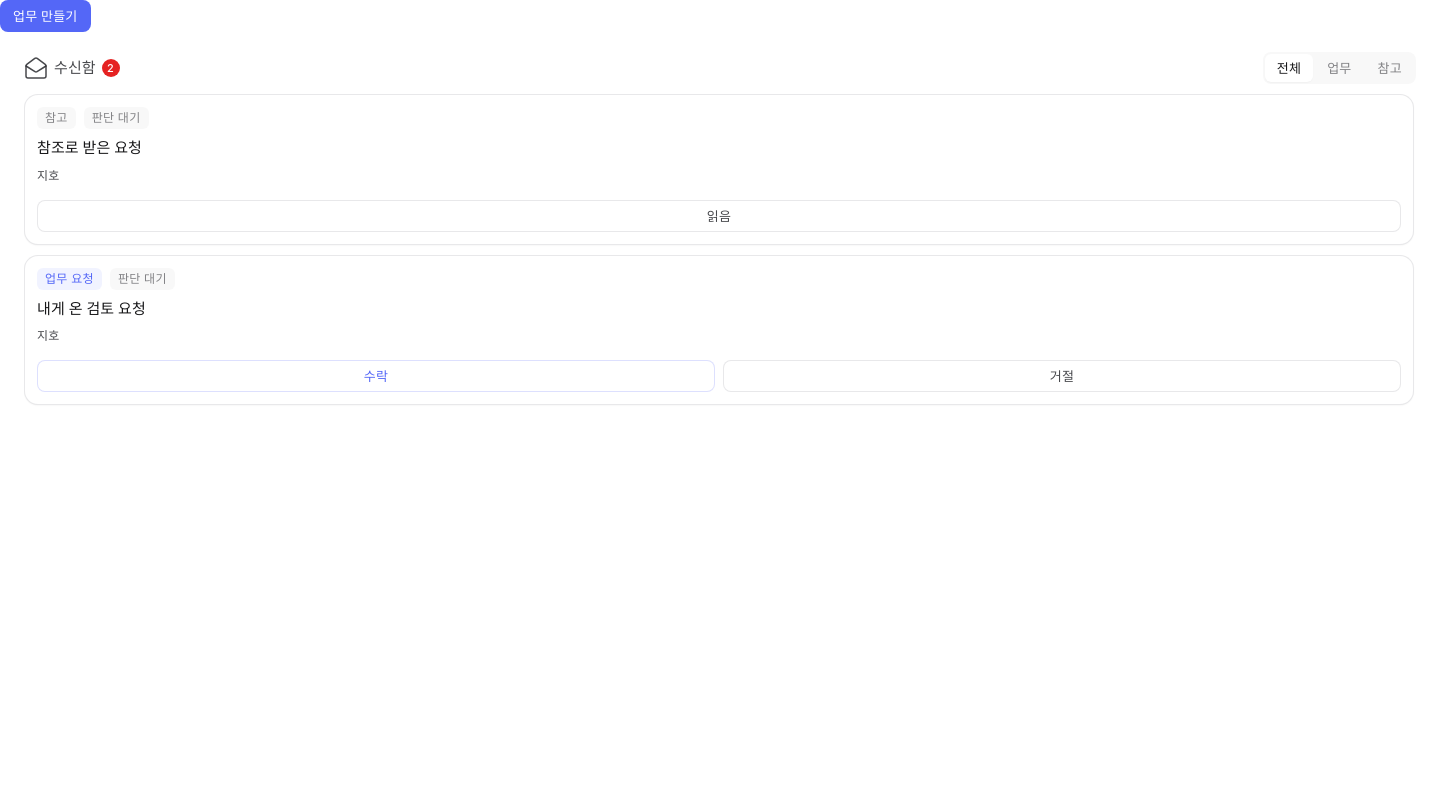
Test: work relation information architecture › direct inbox rejection keeps the reason on failure and retries the existing command
Click the button "거절": [1062, 376] box left=723, top=360, right=1401, bottom=392
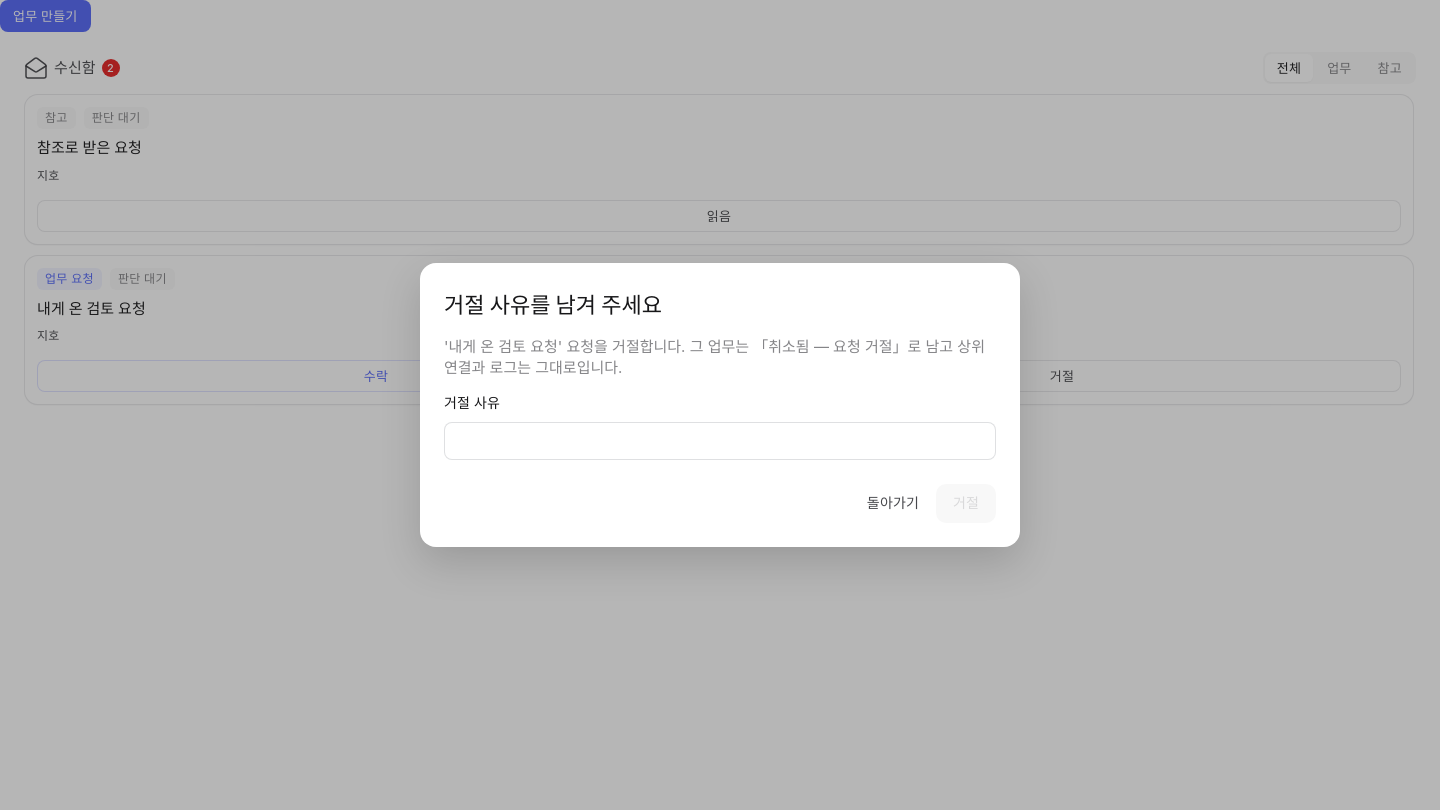
In the field labelled "거절 사유": [720, 441] box left=444, top=422, right=996, bottom=460, type "일정 조율 필요"
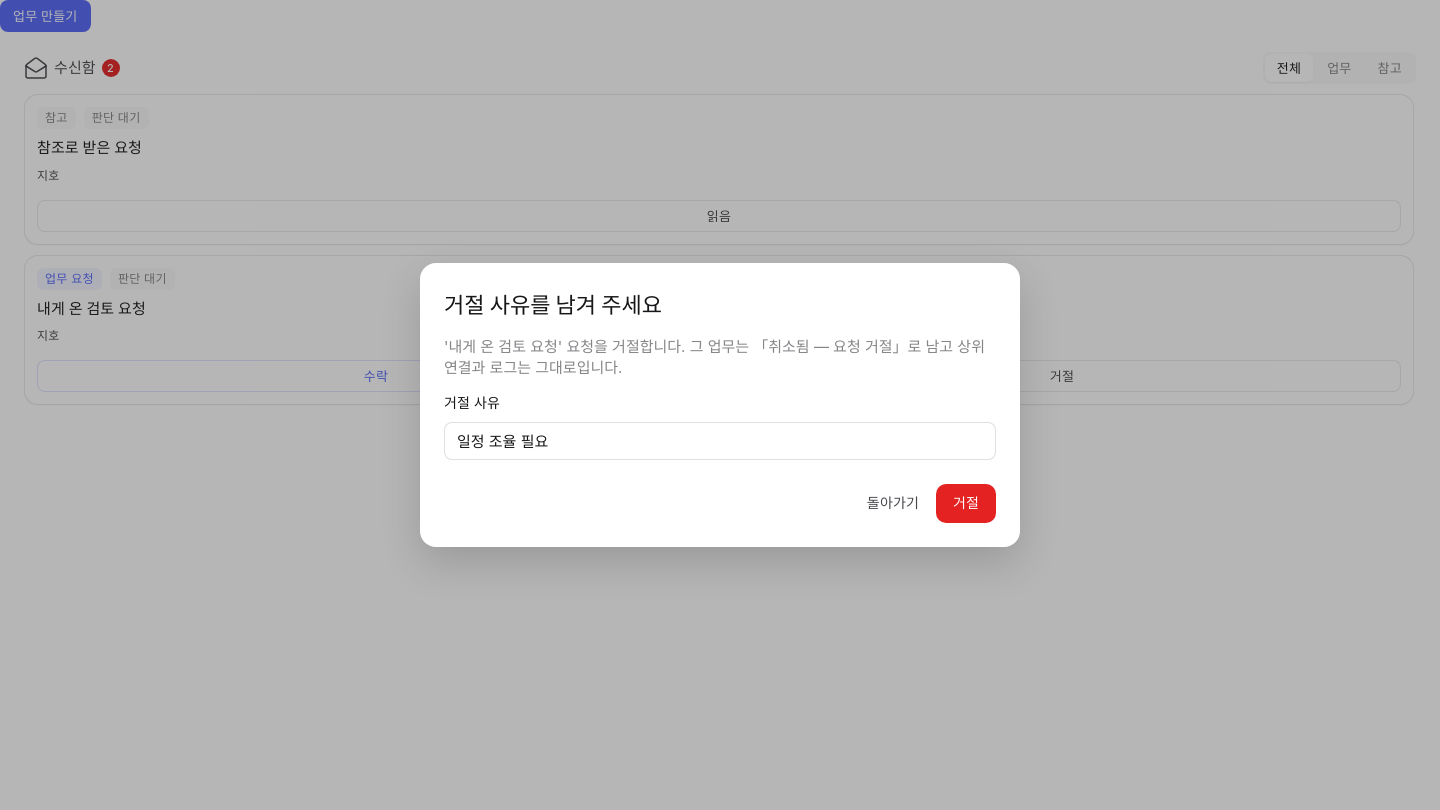
Click the button "거절": [966, 503] box left=936, top=484, right=996, bottom=523
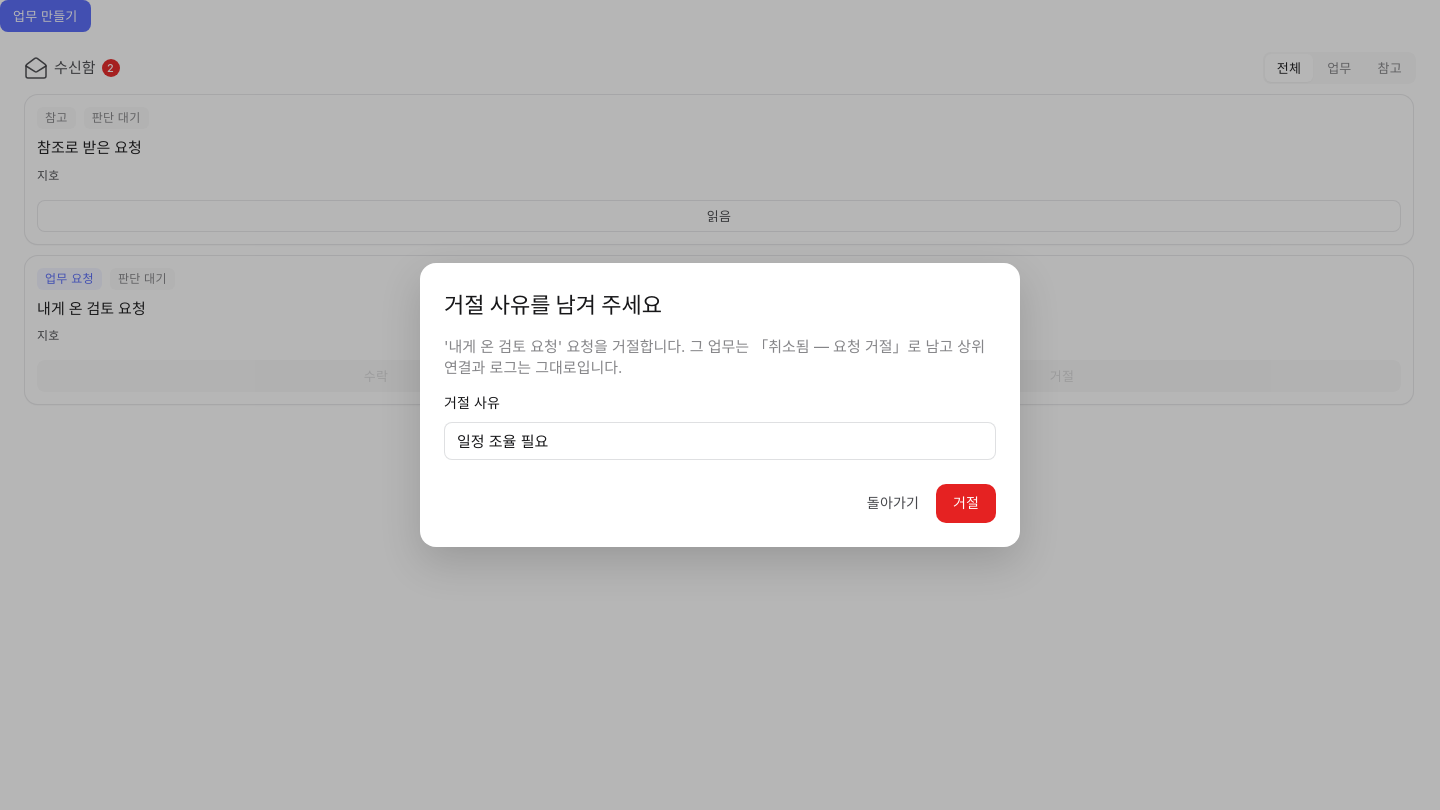
Click the button "거절": [966, 503] box left=936, top=484, right=996, bottom=523
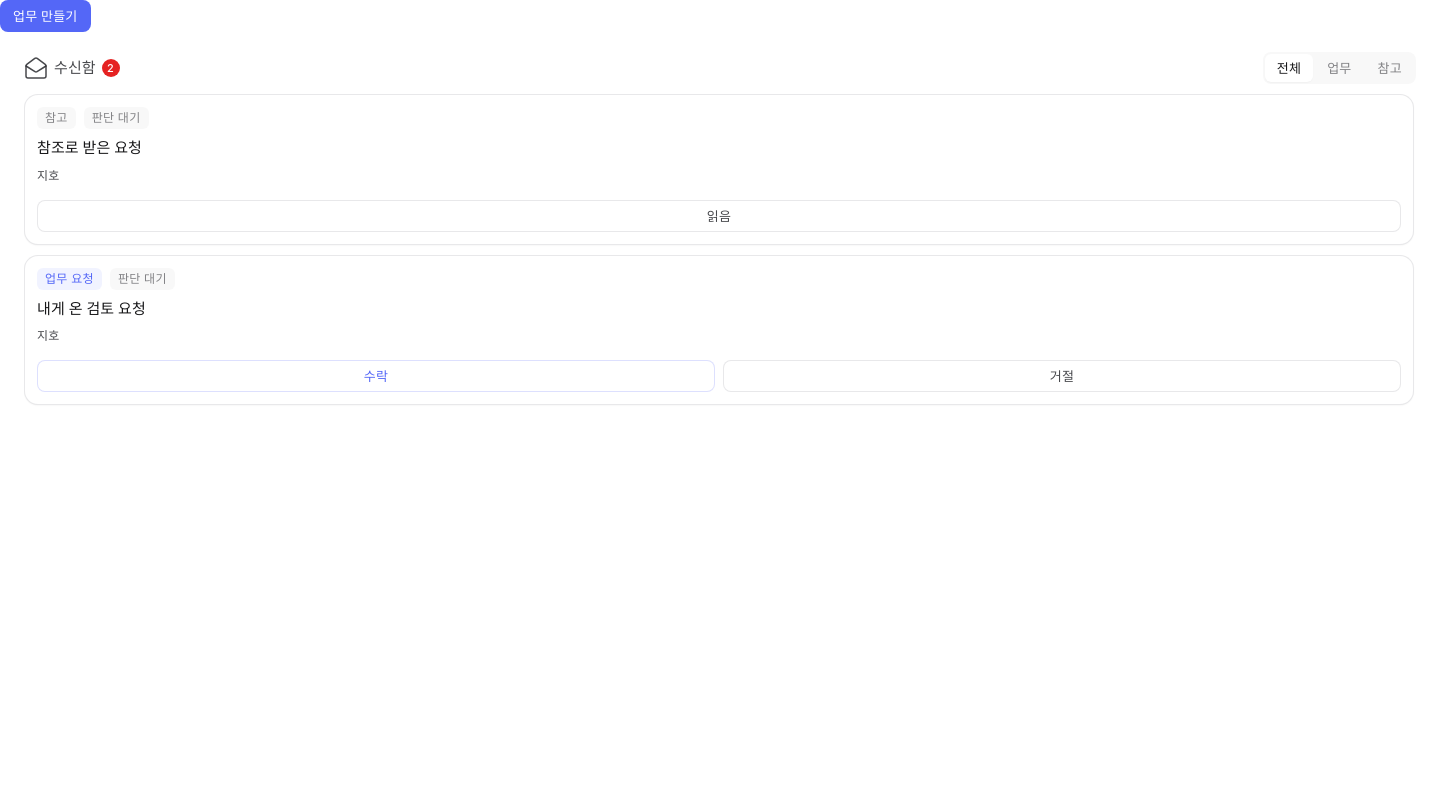
Check: the heading "거절 사유" is gone
